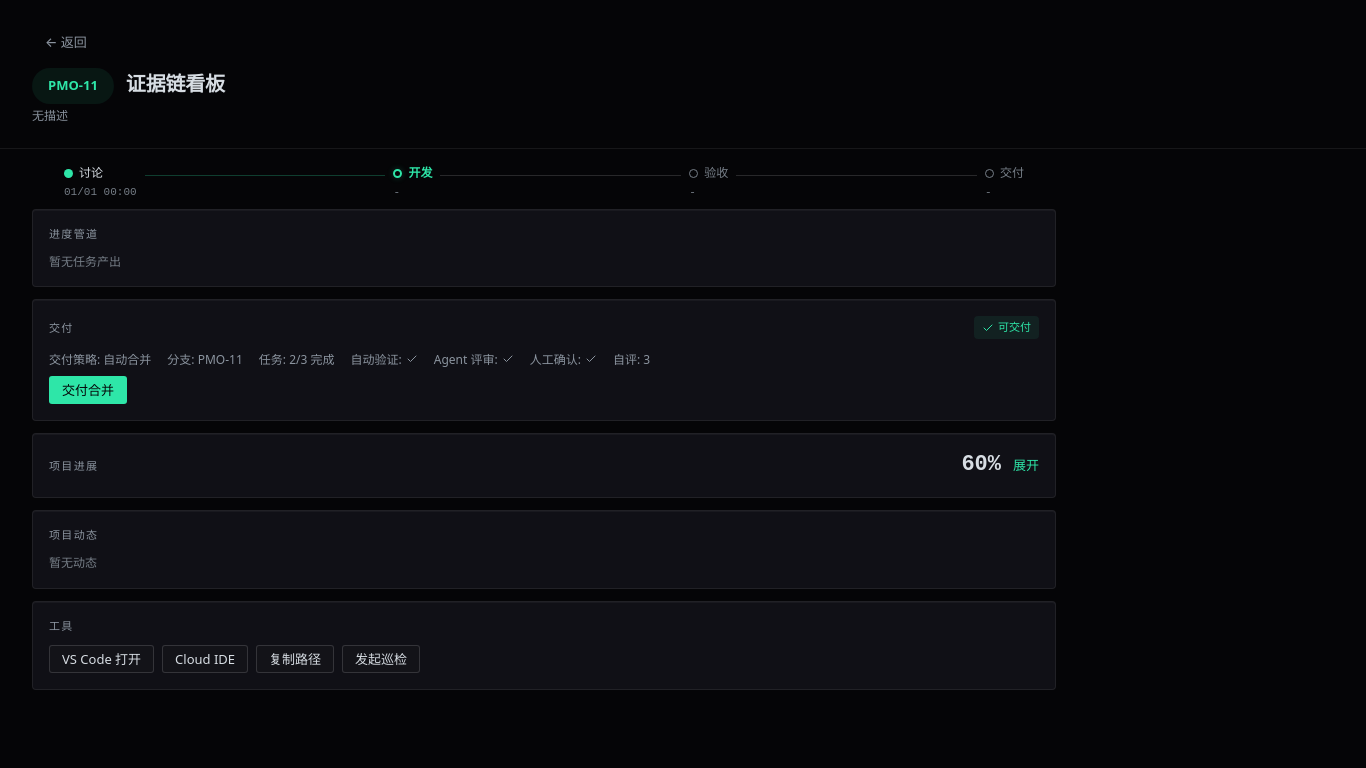
Scenario: PMO-b/F6-c: 交付区块 › auto-merge：409 时展示 missing / conflictFiles
The image size is (1366, 768).
Click the button "交付合并".
click(88, 390)  # box [49,376,127,404]
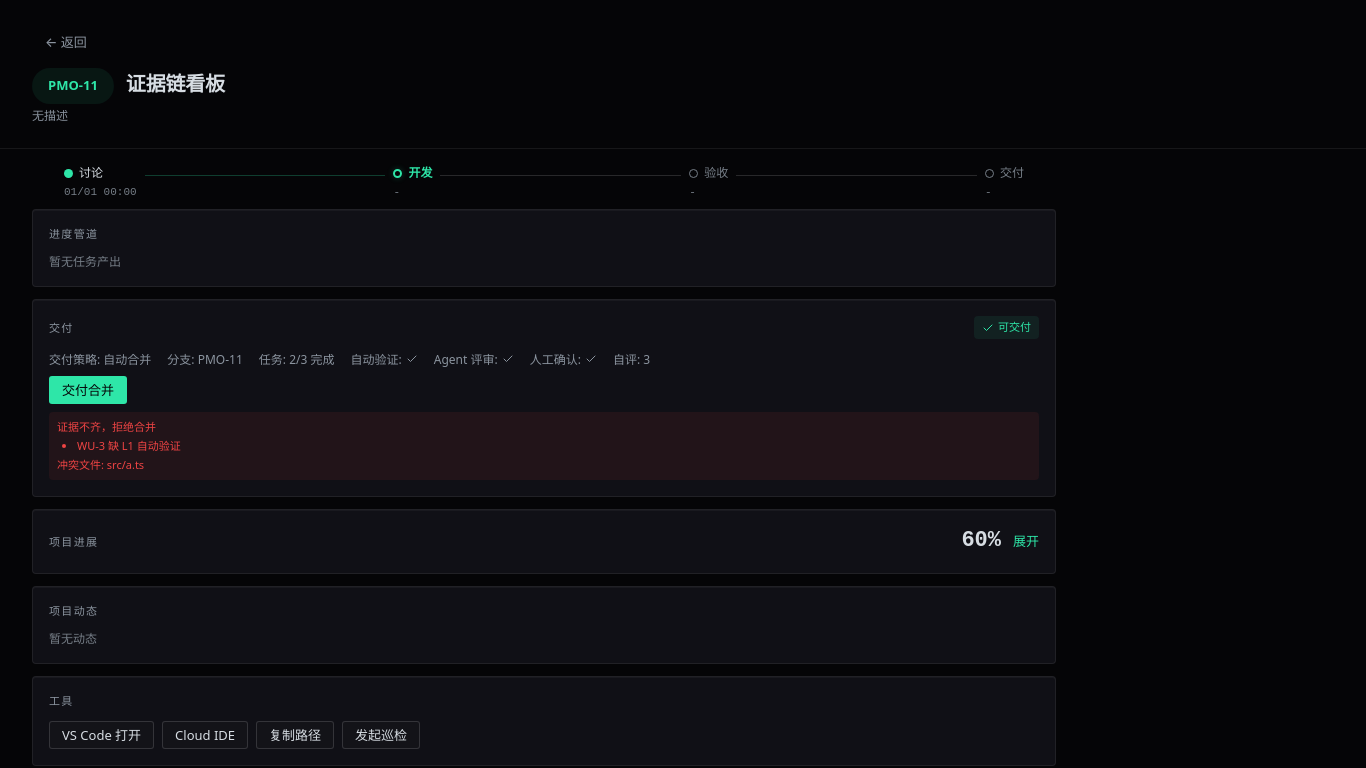
Expected: the text "证据不齐，拒绝合并" is shown, [57,419,156,434]
Expected: the list item "WU-3 缺 L1 自动验证" is shown, [77,438,181,453]
Expected: the text "冲突文件: src/a.ts" is shown, [57,456,144,472]
